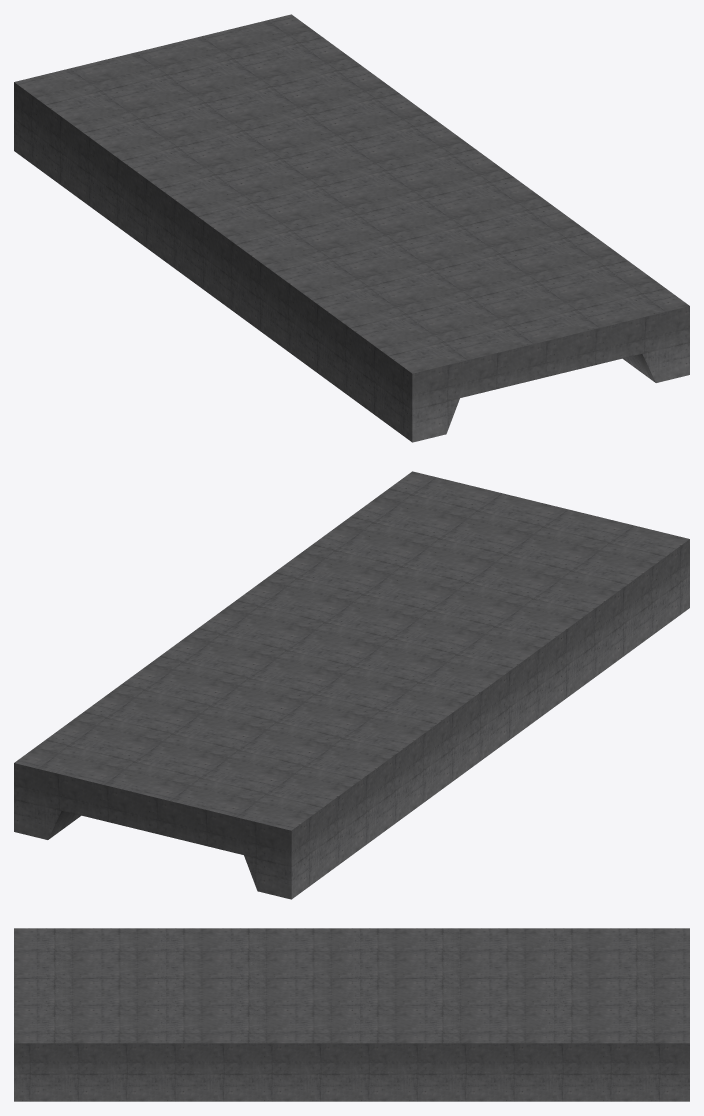
File: AMB_ICHI_UP.glb
3 views of the same model, one above another, from view 1: azimuth 30°, elevation 25°; view 2: azimuth 150°, elevation 25°; view 3: azimuth 270°, elevation 25° (orthographic). The views are drawn at different scales.
Visible parts, largest first — view 1: Mesh1; view 2: Mesh1; view 3: Mesh1.
Part boxes in pixels (x1,y1,x2,y2): Mesh1: (14,14,689,442); Mesh1: (14,471,689,899); Mesh1: (14,928,689,1101).
Bounding box in the file's own units: 40.21 × 9.54 × 100.
Materials: 1 (1 with a texture image).
